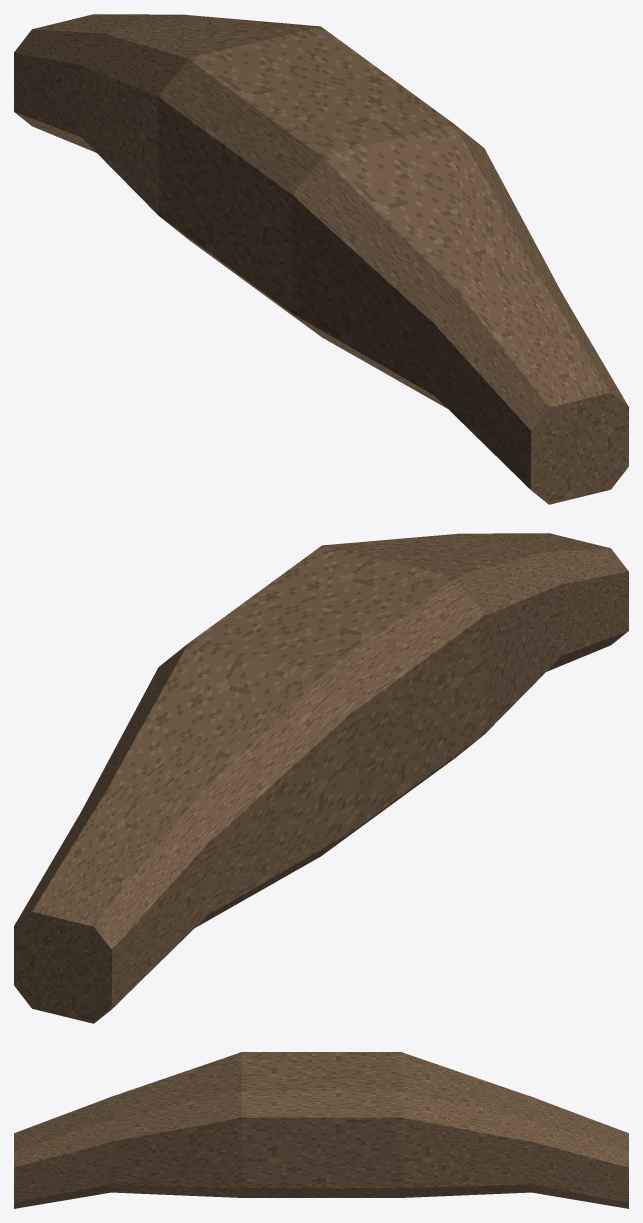
File: workpiece_forged_pickaxe_rough.obj
3 views of the same model, one above another, from view 1: azimuth 30°, elevation 25°; view 2: azimuth 150°, elevation 25°; view 3: azimuth 270°, elevation 25° (orthographic). The views are drawn at different scales.
Visible parts, largest first — view 1: geometry; view 2: geometry; view 3: geometry.
Part boxes in pixels (x1=…): geometry: x1=14, y1=14, x2=628, y2=504; geometry: x1=14, y1=533, x2=628, y2=1023; geometry: x1=14, y1=1052, x2=628, y2=1208.
Size of the model in its own units: 0.1862 by 0.2006 by 0.8687.
